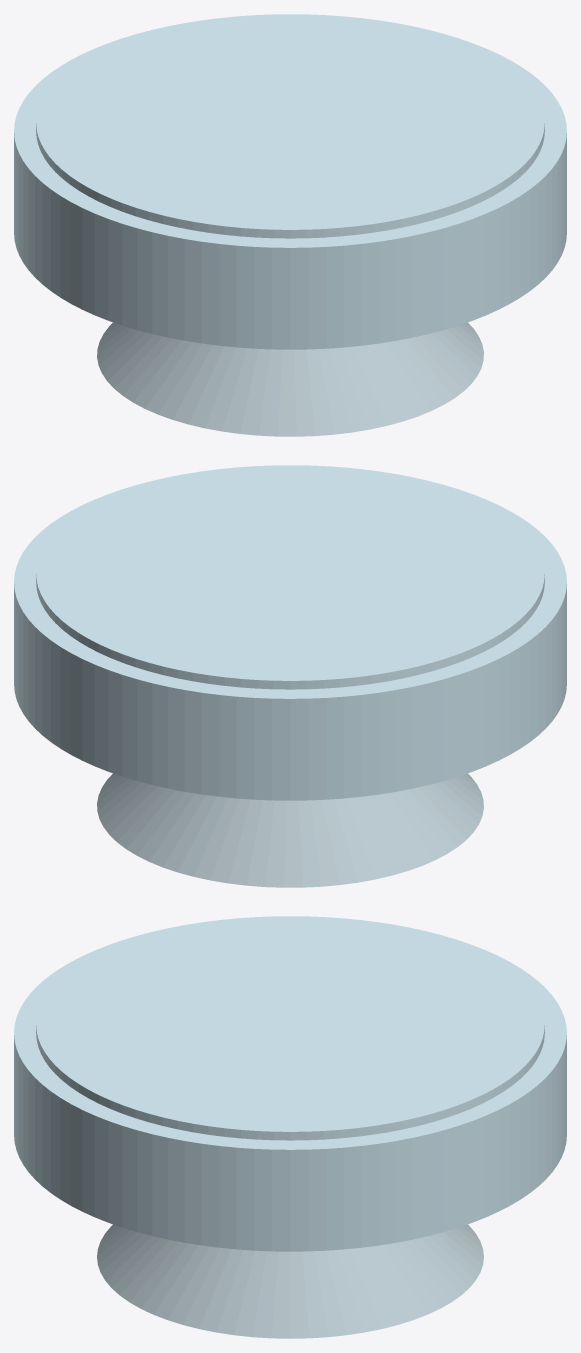
The model's file is 04_frostgipfel.glb.
3 renders of one model, top to bottom at view 1: azimuth 30°, elevation 25°; view 2: azimuth 150°, elevation 25°; view 3: azimuth 270°, elevation 25°, orthographic.
Parts seen in each view (by area): view 1: GrassTop, Island, IslandDrip; view 2: GrassTop, Island, IslandDrip; view 3: GrassTop, Island, IslandDrip.
Boxes of the visible parts, <box> form: GrassTop: <box>36,15,544,238</box>; Island: <box>14,14,566,349</box>; IslandDrip: <box>97,322,483,436</box>; GrassTop: <box>36,466,544,689</box>; Island: <box>14,465,566,800</box>; IslandDrip: <box>97,773,483,887</box>; GrassTop: <box>36,917,544,1140</box>; Island: <box>14,916,566,1251</box>; IslandDrip: <box>97,1224,483,1338</box>.
Size of the model in its own units: 6.4 by 2.97 by 6.4.
